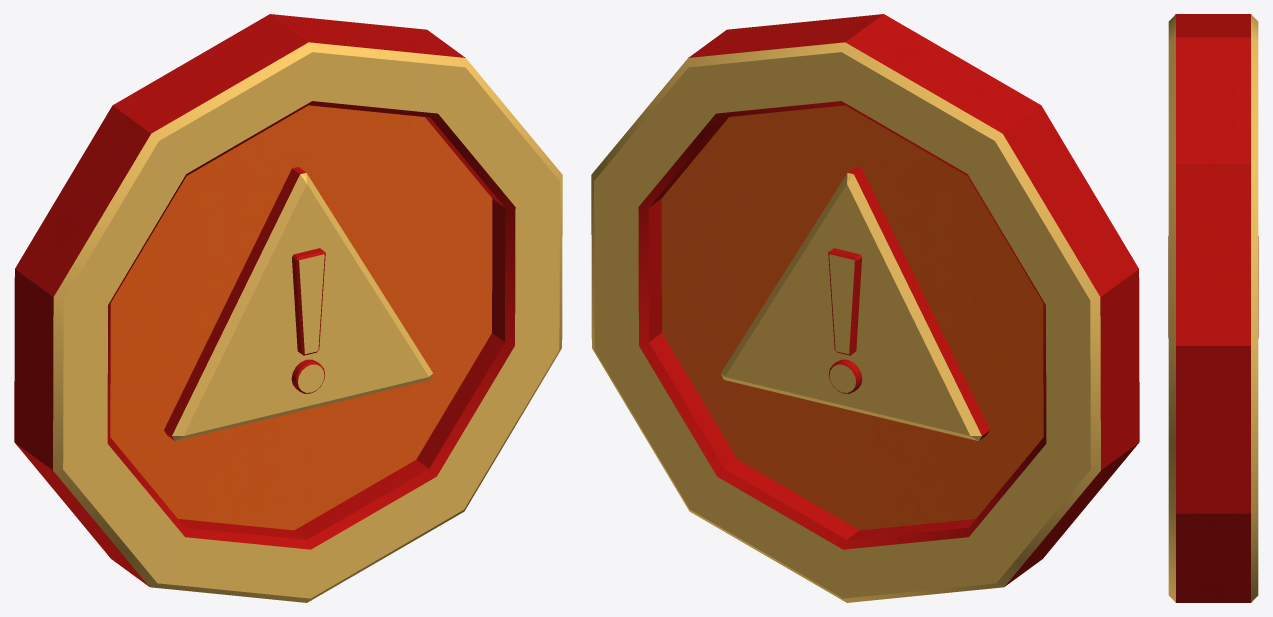
File: SM_Coin01 (1).fbx
The picture shows the model from 3 angles, left to right: view 1: azimuth 30°, elevation 25°; view 2: azimuth 150°, elevation 25°; view 3: azimuth 270°, elevation 25°; orthographic projection. The views are drawn at different scales.
Visible parts, largest first — view 1: SM_MonedaHP01; view 2: SM_MonedaHP01; view 3: SM_MonedaHP01.
Part boxes in pixels (<box>): SM_MonedaHP01: <box>14,14,562,602</box>; SM_MonedaHP01: <box>591,14,1139,602</box>; SM_MonedaHP01: <box>1168,14,1258,602</box>.
Size of the model in its own units: 23.8 by 24.99 by 3.77.
1 material, 1 textured.
